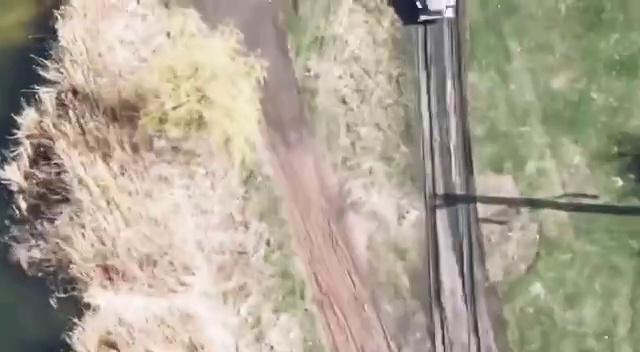vehicle: (416, 0, 456, 25)
